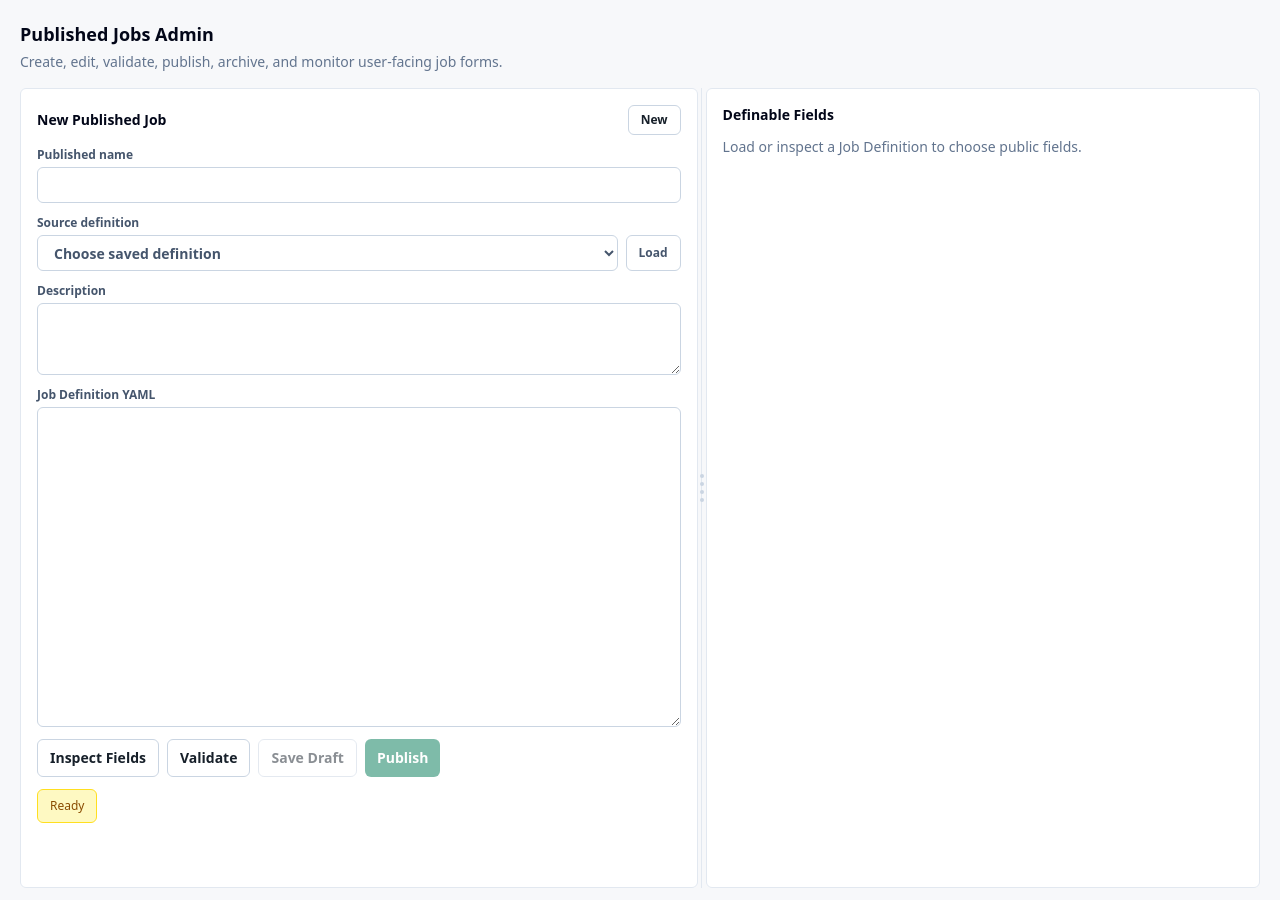
Test: PublishedJobsAdminPage field editor › hides the default value input for enum fields
Click the button "Inspect Fields": (98, 758) [37,739,159,777]
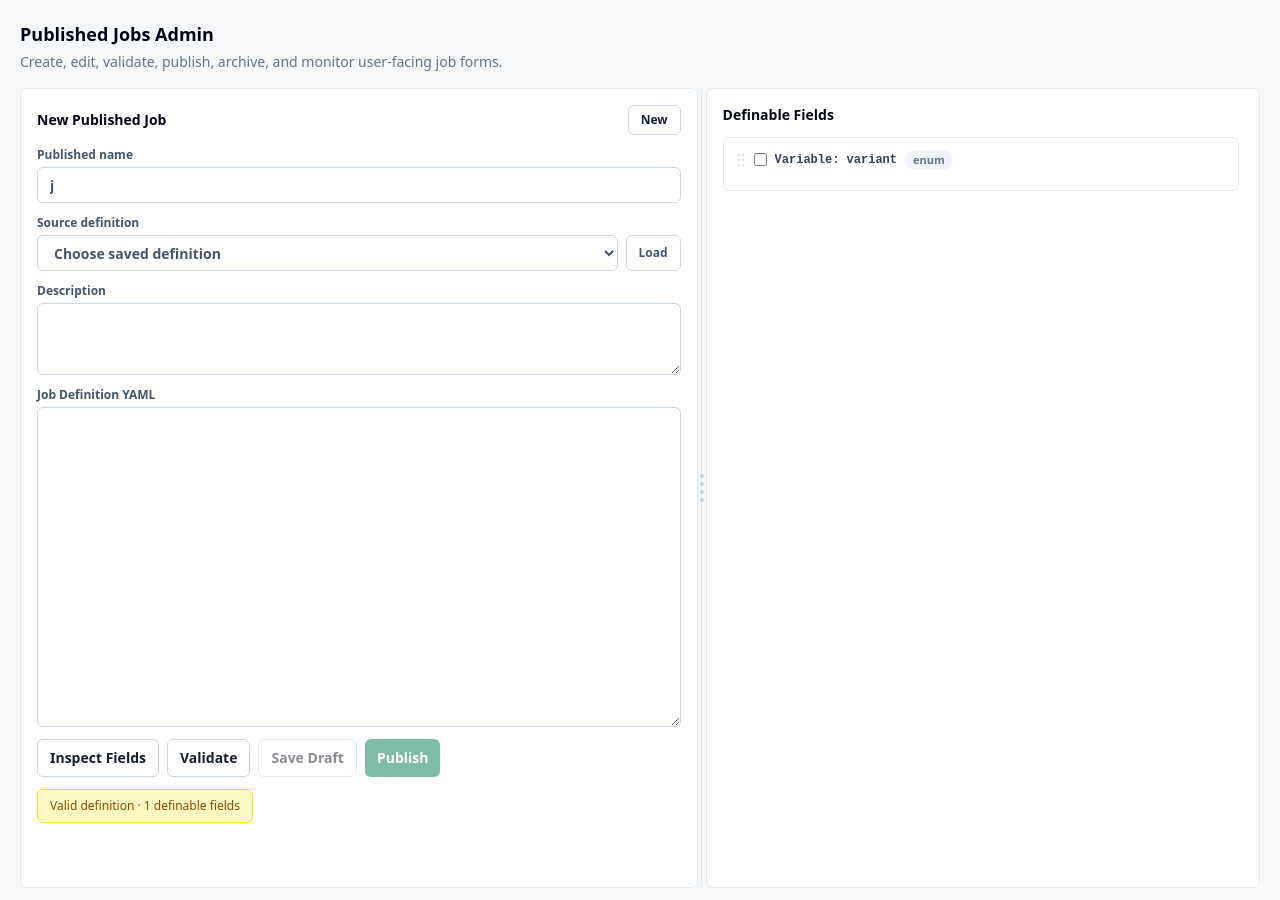
Now the text "Valid definition · 1 definable fields" is shown, box [37,789,253,823]
Click the checkbox: (760, 160) [754,153,767,166]
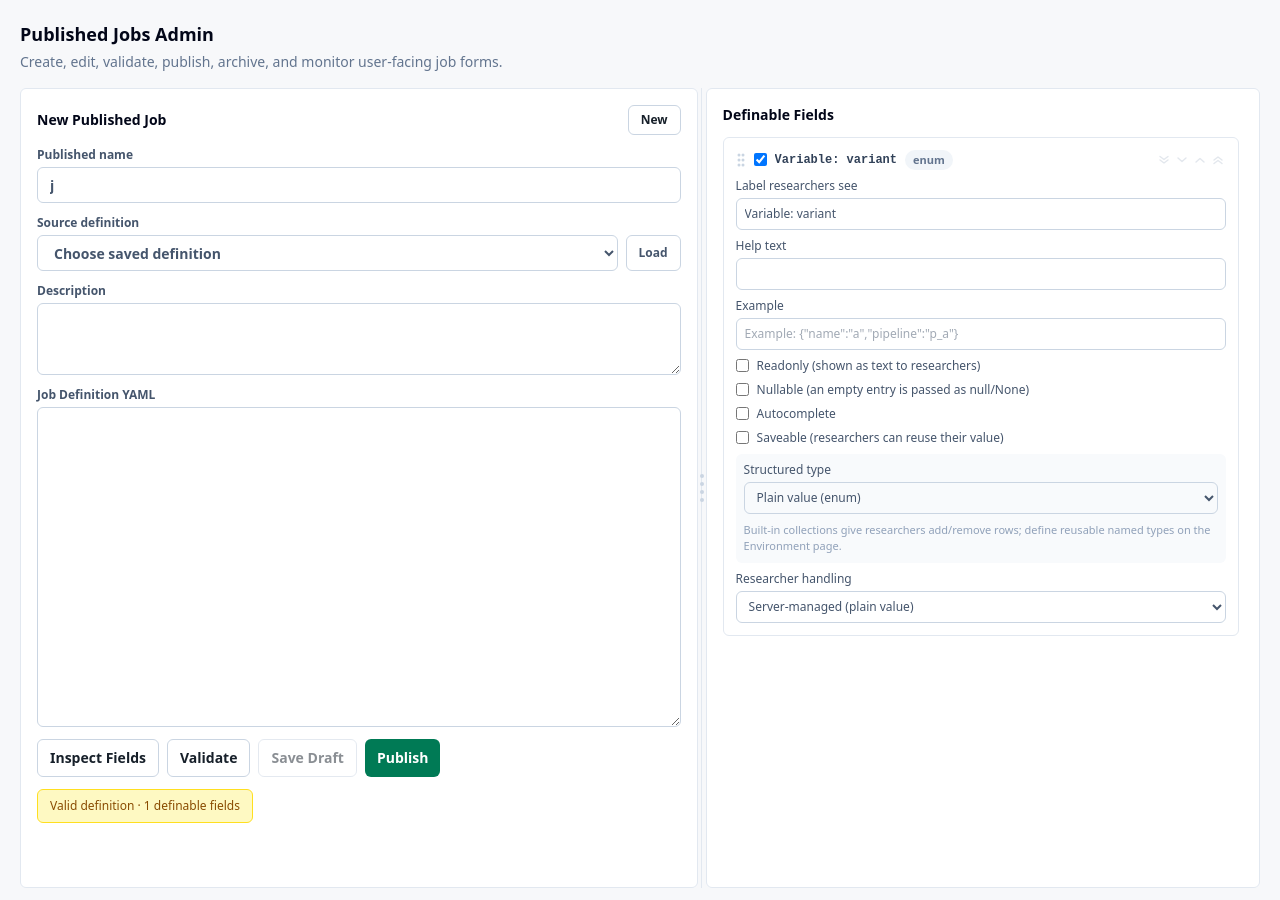
Now the text "Example" is shown, box [736,298,1226,350]
